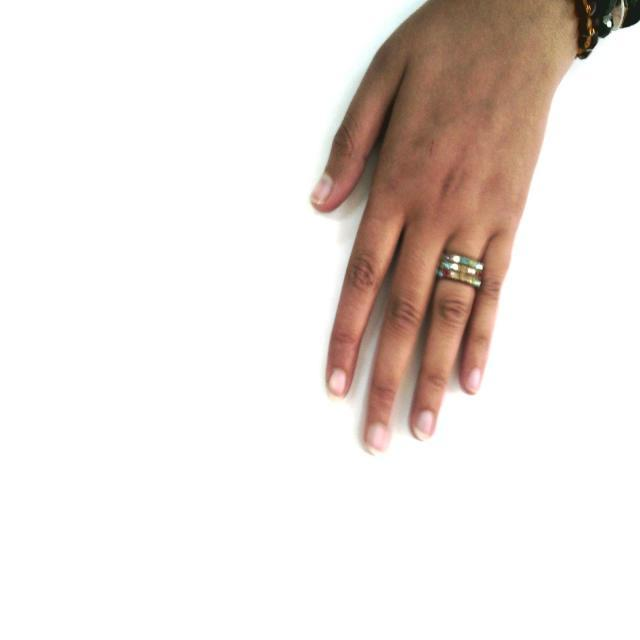Fingernail: (327, 368, 348, 401), (312, 176, 332, 204), (415, 411, 434, 440), (368, 425, 388, 452), (466, 369, 480, 392)
